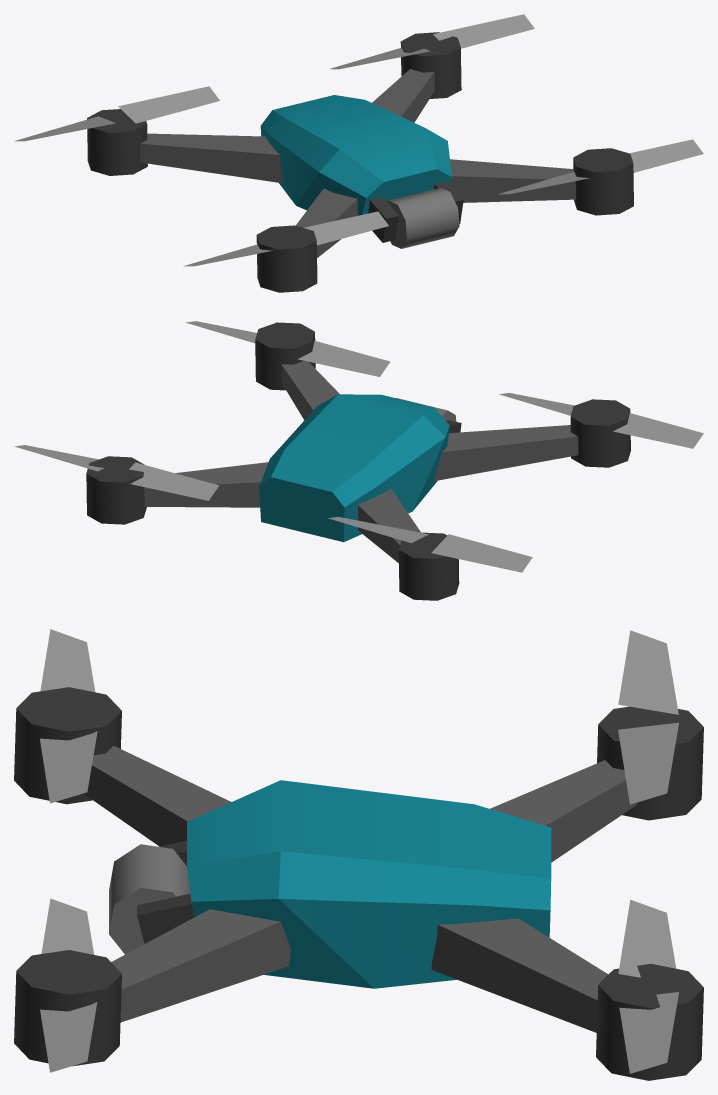
Rendered from gadget_copter_01.fbx.
The picture shows the model from 3 angles, top to bottom: view 1: azimuth 30°, elevation 25°; view 2: azimuth 150°, elevation 25°; view 3: azimuth 270°, elevation 25°; orthographic projection. The views are drawn at different scales.
Parts seen in each view (by area): view 1: gadget_copter_01; view 2: gadget_copter_01; view 3: gadget_copter_01.
Part boxes in pixels (box(x1,y1,x2,y2)): gadget_copter_01: box(14, 14, 703, 292); gadget_copter_01: box(14, 321, 703, 600); gadget_copter_01: box(14, 629, 703, 1080).
Size of the model in its own units: 111 by 15.26 by 75.89.
